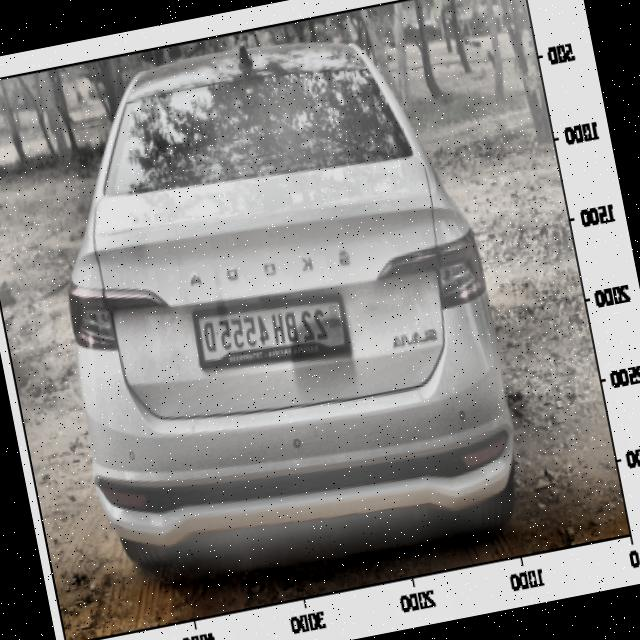license_plate: (195, 290, 342, 372)
